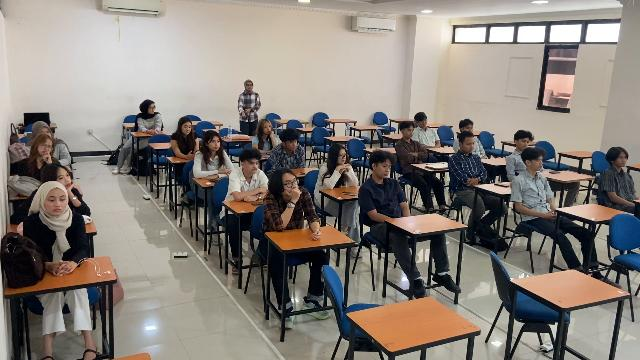fokus: (282, 174, 298, 195), (57, 168, 72, 187), (377, 158, 390, 179), (245, 158, 260, 173), (38, 142, 53, 156), (464, 136, 475, 154), (336, 148, 348, 164), (533, 155, 544, 170), (616, 152, 627, 167), (208, 137, 220, 150), (287, 137, 297, 152), (405, 124, 414, 139), (519, 138, 530, 149), (418, 116, 428, 127), (464, 123, 474, 133), (264, 123, 272, 135)
